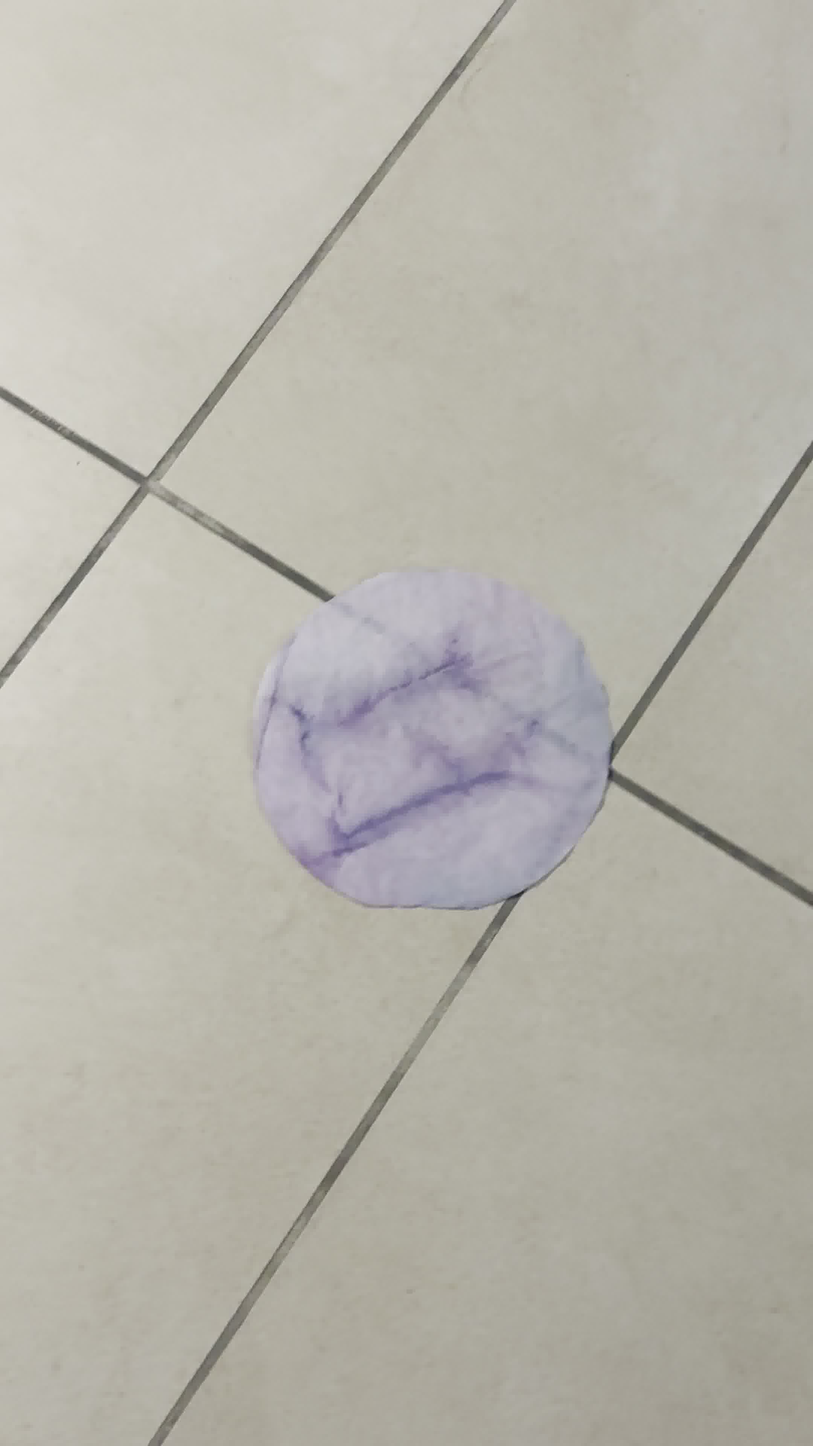Target: (242, 564, 604, 898)
